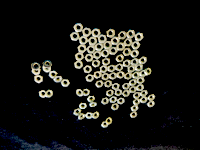nut: (74, 22, 84, 33), (31, 61, 41, 71), (103, 40, 113, 50), (69, 32, 80, 41), (33, 75, 43, 84), (42, 64, 52, 73), (61, 78, 71, 87), (83, 88, 92, 98), (83, 27, 92, 37), (75, 52, 85, 61), (78, 44, 88, 53), (88, 37, 98, 46), (123, 47, 132, 57), (48, 71, 59, 79), (43, 60, 52, 69), (84, 65, 93, 74), (122, 90, 131, 99), (92, 59, 101, 68), (87, 45, 96, 54), (92, 27, 101, 36), (94, 51, 103, 60), (111, 36, 120, 45), (127, 30, 136, 39), (131, 49, 140, 58), (117, 42, 126, 51), (137, 76, 146, 85), (79, 36, 89, 44), (84, 54, 94, 62), (107, 28, 115, 38), (54, 75, 63, 83), (39, 89, 47, 98), (74, 61, 83, 69), (85, 112, 93, 121), (93, 111, 101, 120), (76, 88, 84, 97), (88, 95, 97, 103), (102, 97, 110, 106), (133, 92, 142, 100), (96, 79, 104, 88), (102, 73, 110, 82), (102, 58, 111, 66), (110, 72, 118, 81), (108, 65, 116, 74), (116, 54, 124, 63), (95, 43, 104, 51), (135, 33, 144, 41), (119, 31, 127, 40), (116, 63, 124, 72), (123, 59, 131, 68), (132, 57, 140, 66), (133, 71, 141, 80), (32, 68, 42, 75), (46, 89, 53, 99), (74, 109, 82, 117), (79, 102, 87, 110), (78, 113, 86, 121), (106, 118, 114, 126), (110, 96, 118, 104), (117, 98, 125, 106), (141, 90, 149, 98), (86, 74, 94, 82), (94, 71, 102, 79), (105, 80, 113, 88), (107, 89, 115, 97), (115, 89, 123, 97), (100, 66, 108, 74), (99, 35, 107, 43), (102, 49, 110, 57), (110, 47, 118, 55), (133, 42, 141, 50), (116, 55, 124, 63), (136, 64, 144, 72), (125, 72, 133, 80), (130, 112, 139, 119), (147, 94, 156, 101), (112, 83, 121, 90), (140, 56, 147, 65), (124, 82, 131, 91), (90, 102, 98, 109), (112, 104, 120, 111), (131, 105, 139, 112), (133, 99, 141, 106), (141, 97, 148, 105), (130, 86, 137, 94), (137, 85, 145, 92), (118, 71, 125, 79), (125, 39, 133, 46), (128, 65, 135, 73), (146, 67, 152, 76), (102, 121, 109, 128), (148, 101, 155, 108), (140, 70, 147, 77), (130, 79, 137, 86), (90, 102, 98, 108)
